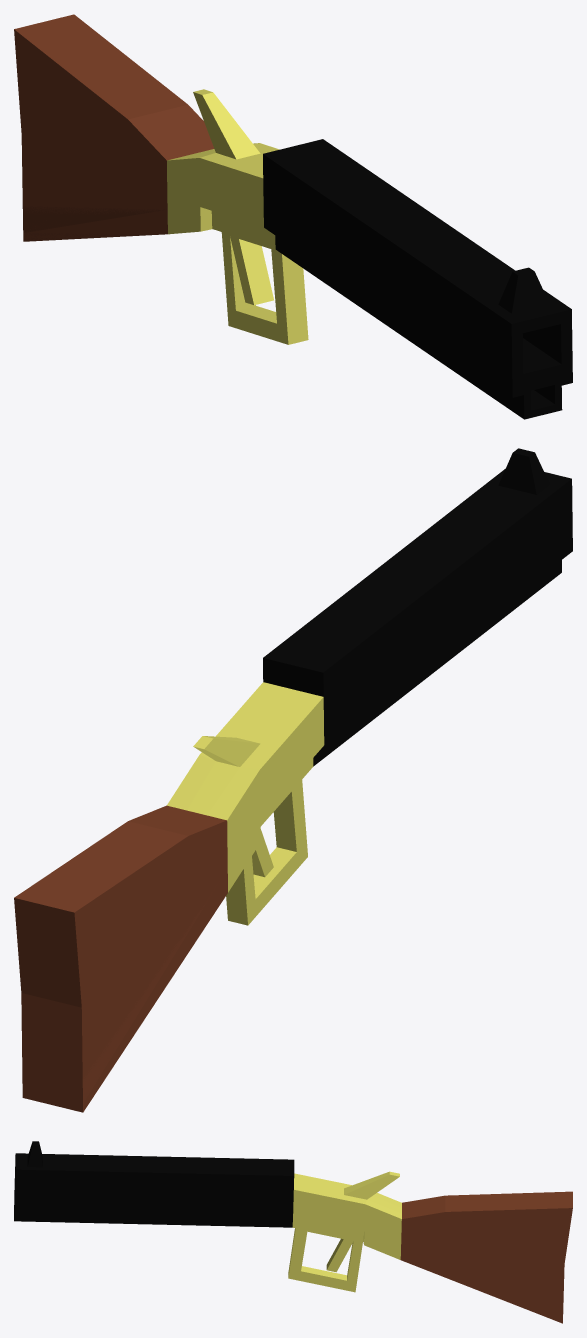
Rendered from rifle.glb.
3 views of the same model, one above another, from view 1: azimuth 30°, elevation 25°; view 2: azimuth 150°, elevation 25°; view 3: azimuth 270°, elevation 25° (orthographic). The views are drawn at different scales.
Visible parts, largest first — view 1: big_gun; view 2: big_gun; view 3: big_gun.
Boxes of the visible parts, bbox=[...] form: big_gun: bbox=[14, 14, 572, 419]; big_gun: bbox=[14, 448, 572, 1112]; big_gun: bbox=[14, 1141, 572, 1323].
Bounding box in the file's own units: 0.0806 × 0.3868 × 1.14.
